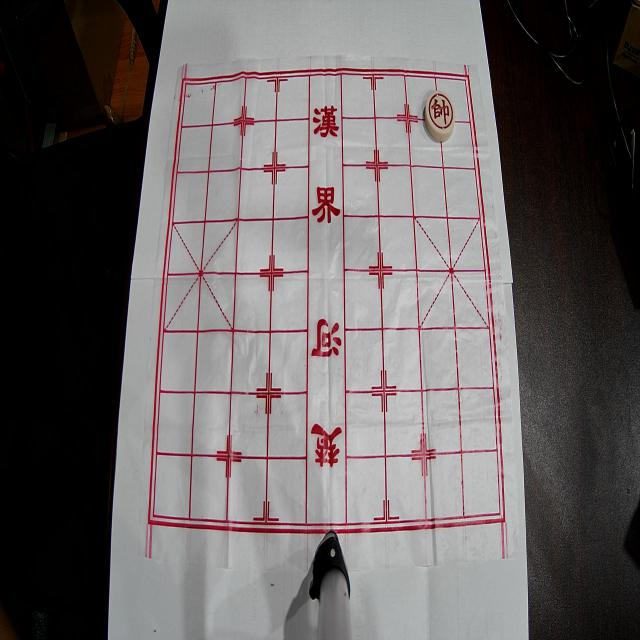red-general: (425, 90, 455, 141)
